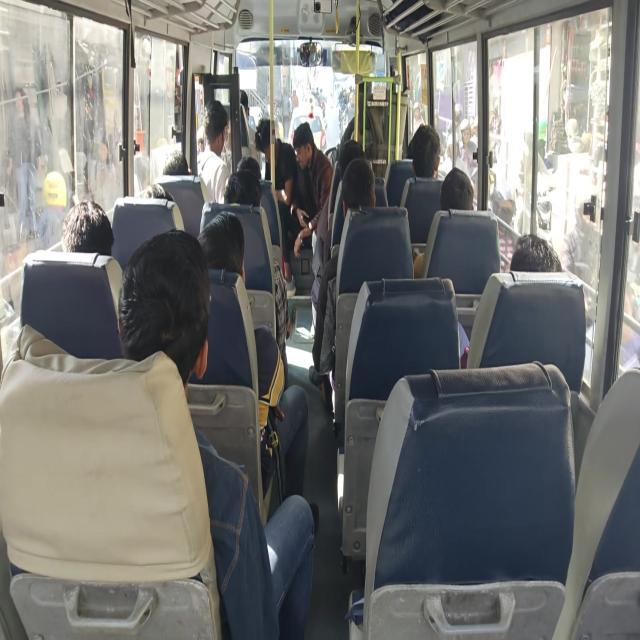person: (117, 218, 224, 389), (193, 202, 247, 291), (58, 195, 115, 265), (510, 225, 572, 284), (339, 154, 383, 214), (439, 163, 484, 216), (199, 93, 229, 164), (226, 159, 267, 210), (129, 177, 178, 218), (411, 124, 446, 177), (288, 122, 319, 171), (356, 53, 378, 111), (333, 133, 365, 172), (256, 115, 278, 165), (236, 150, 272, 180), (162, 149, 190, 184), (236, 87, 252, 129), (403, 136, 417, 164)
